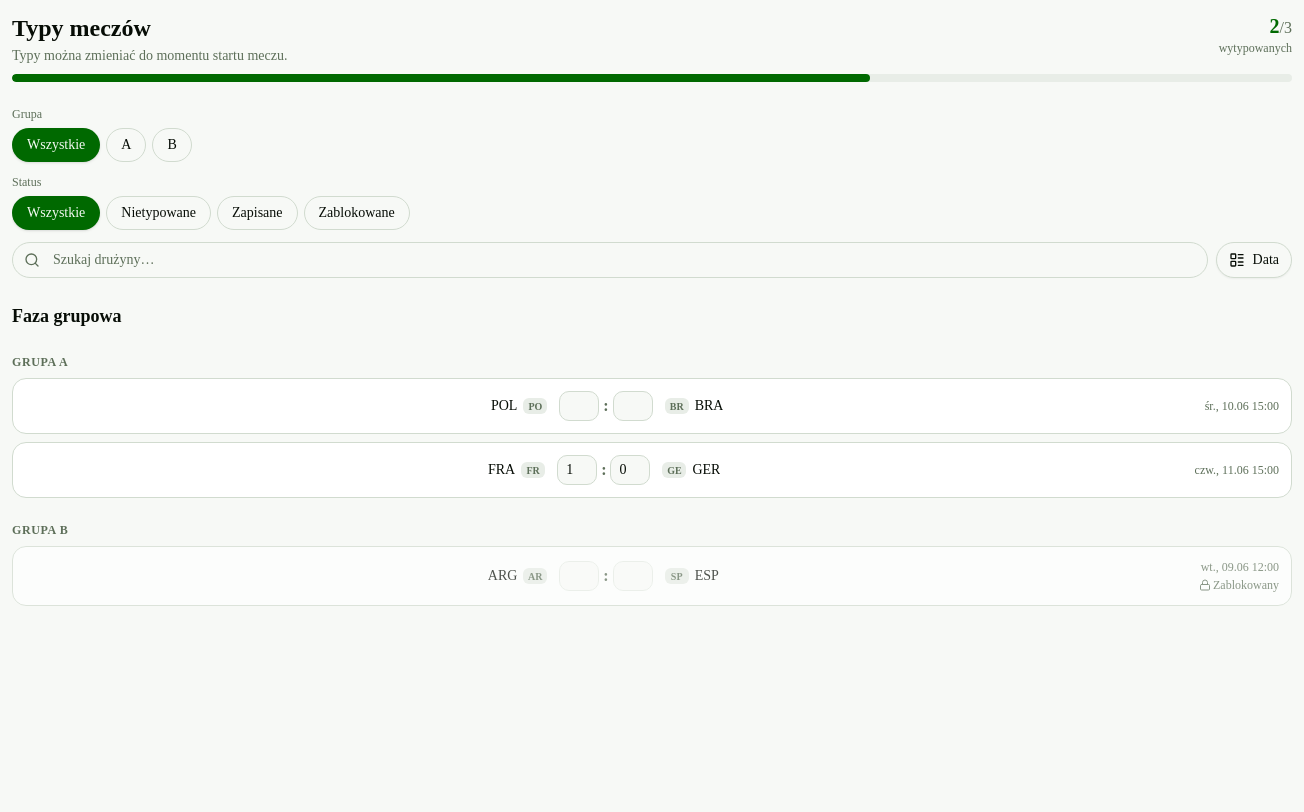
Scenario: PredictionsBoard › sort button switches to flat chronological list (no group sections)
Expected: the element "Grupa A" is shown, [12,354,1292,498]
Expected: the element "Grupa B" is shown, [12,522,1292,606]
# Click once → asc flat list, group sections disappear
Step 1. Click the button with aria-label "Sortuj po dacie" → (1254, 260), box [1216,242,1292,278]
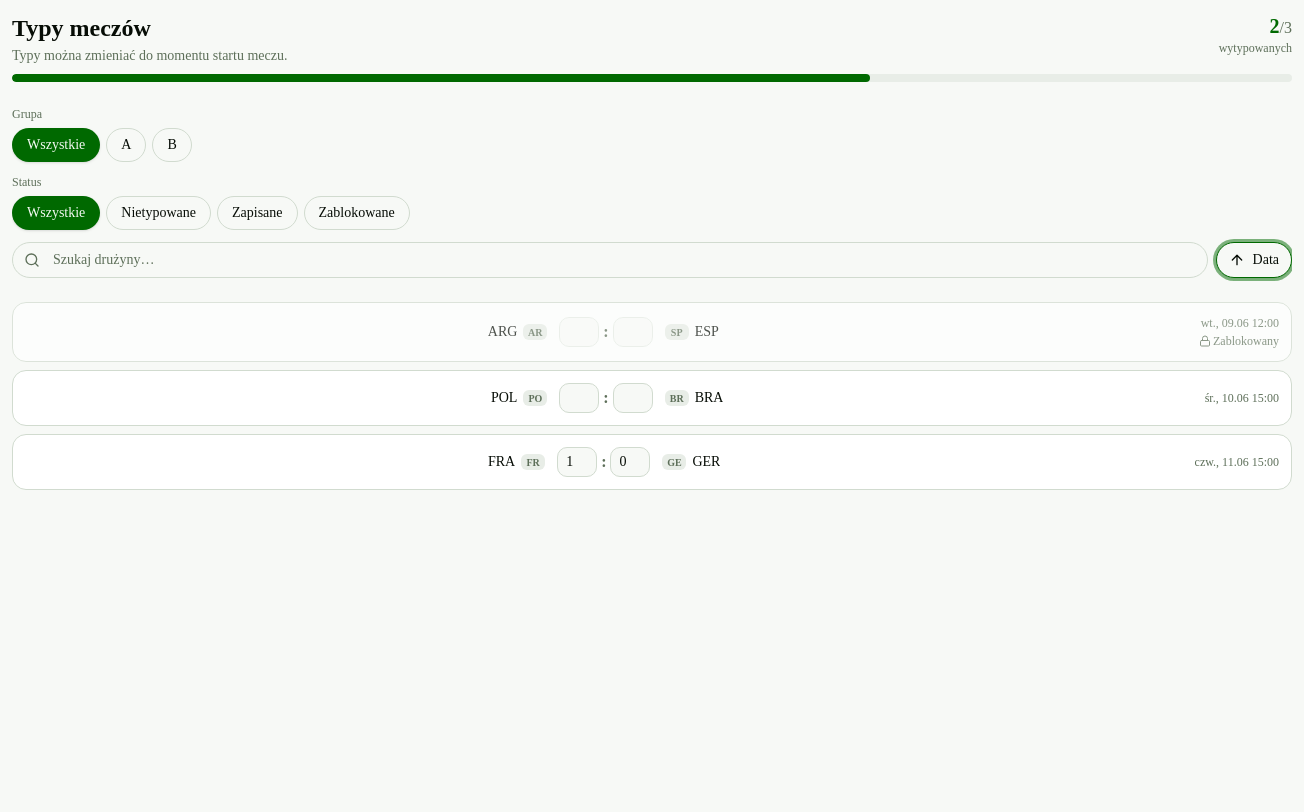
Now the heading "Grupa A" is gone
Now the heading "Grupa B" is gone
# Click again → desc (reversed), still flat
Step 2. Click the button with aria-label "Sortuj po dacie" → (1254, 260), box [1216,242,1292,278]
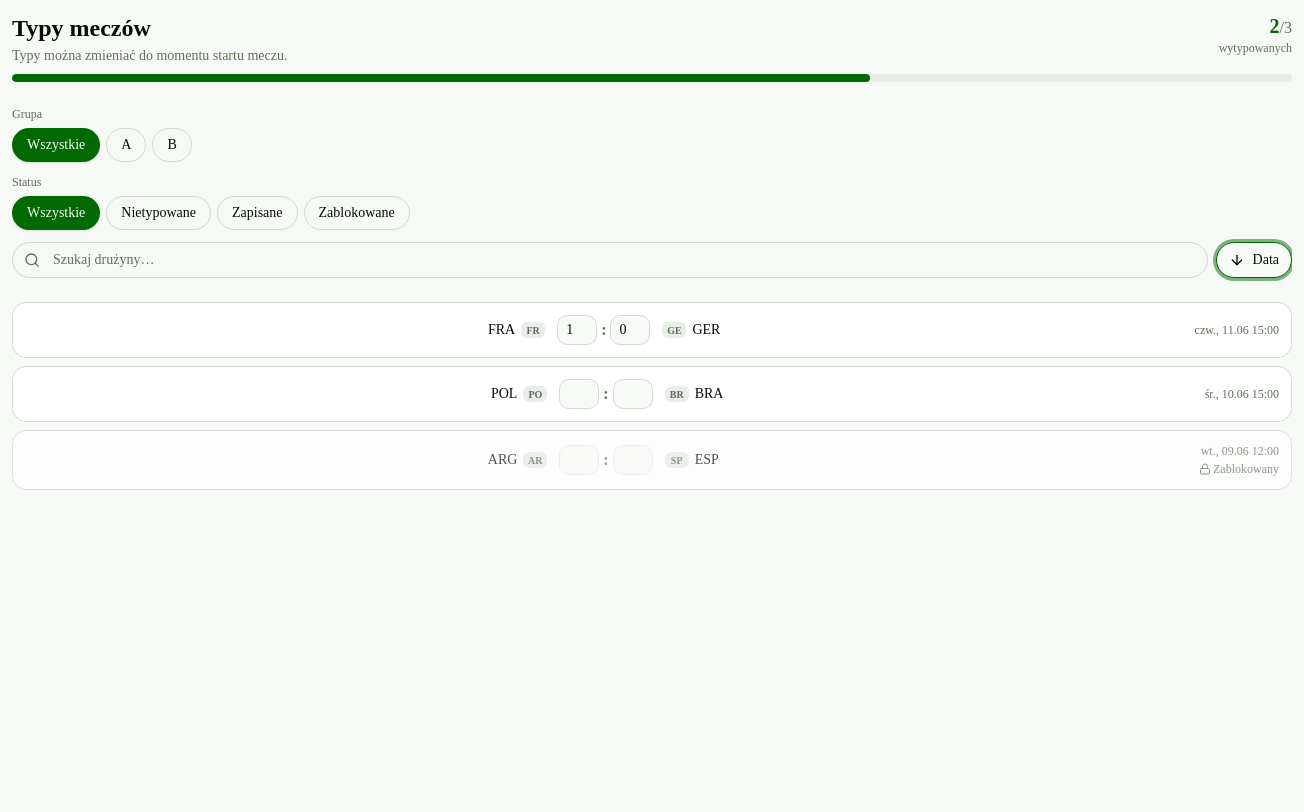
Expected: the heading "Grupa A" is not shown
# Click again → back to grouped view
Step 3. Click the button with aria-label "Widok grupowy" → (1254, 260), box [1216,242,1292,278]
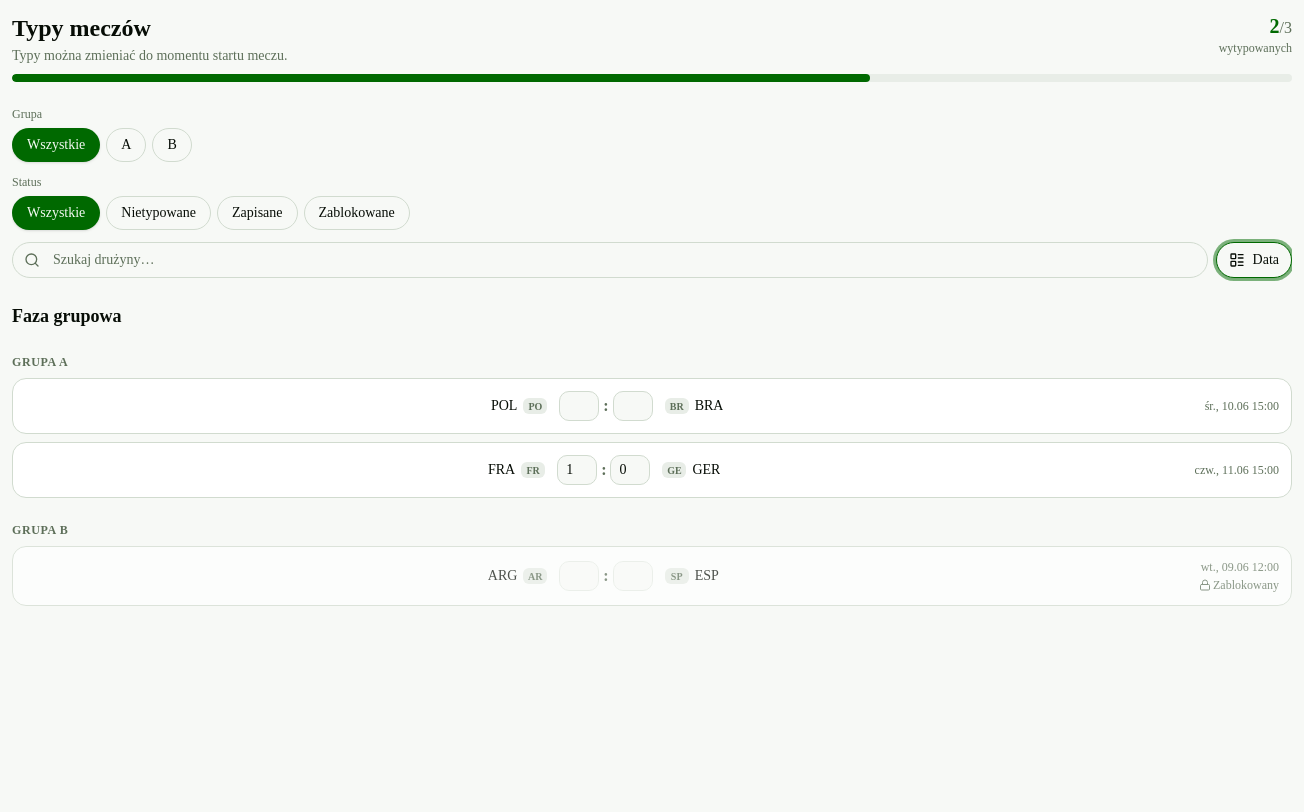
Now the element "Grupa A" is shown, box [12,354,1292,498]
